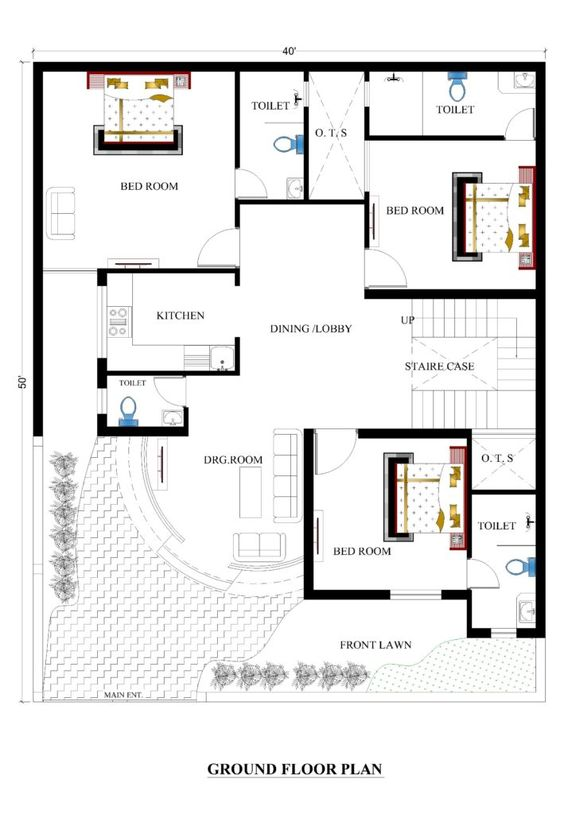room: (30, 59, 242, 281), (359, 131, 547, 304), (298, 420, 476, 602), (94, 260, 244, 377), (361, 57, 550, 147), (459, 485, 550, 645), (231, 57, 310, 209), (299, 54, 371, 207)
